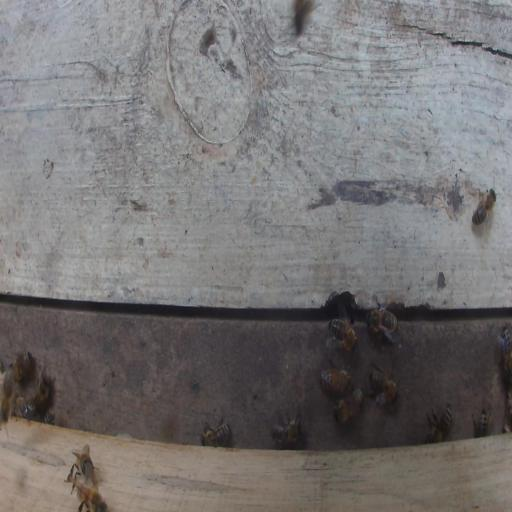bee: (329, 318, 358, 355), (368, 369, 399, 403), (334, 388, 363, 424), (428, 403, 451, 444), (319, 368, 353, 395), (471, 190, 497, 224), (76, 483, 106, 512), (33, 371, 51, 418), (1, 363, 15, 422), (367, 308, 397, 333), (272, 419, 303, 441), (76, 451, 95, 485), (200, 425, 228, 448), (501, 326, 512, 376), (14, 351, 31, 378), (478, 409, 488, 436)
